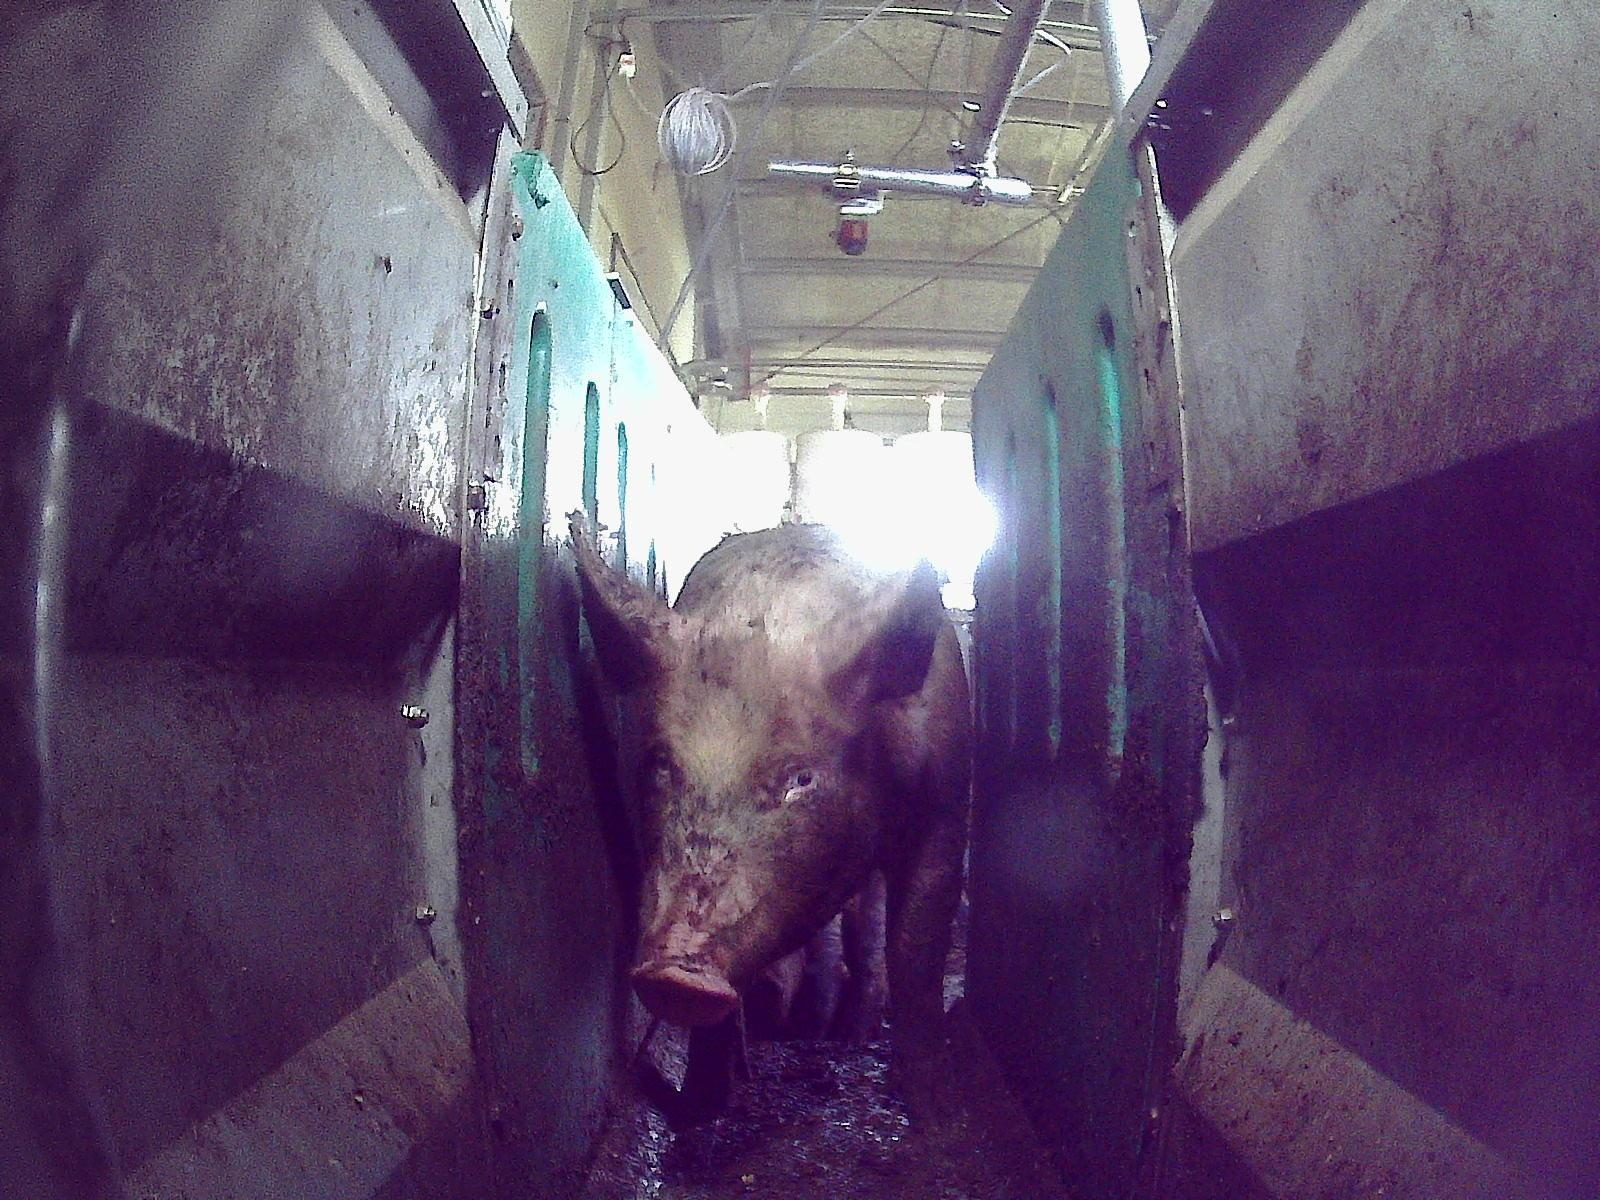Face: (627, 634, 859, 1025)
